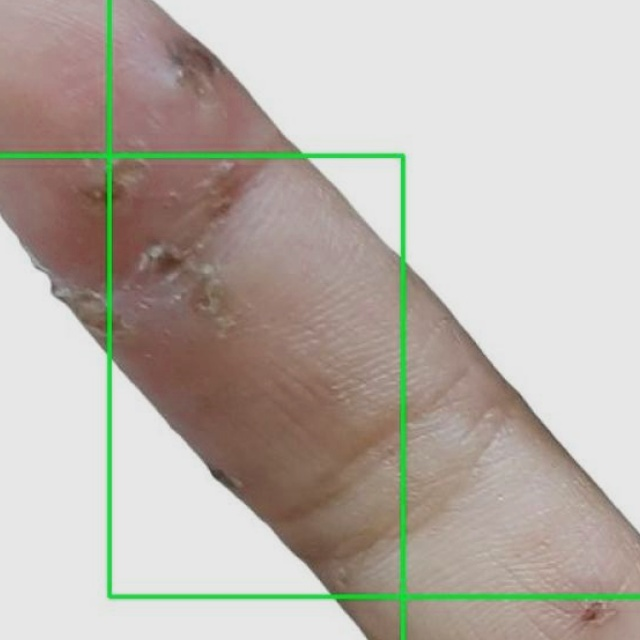Scabies: (109, 0, 639, 596), (0, 155, 402, 639)
